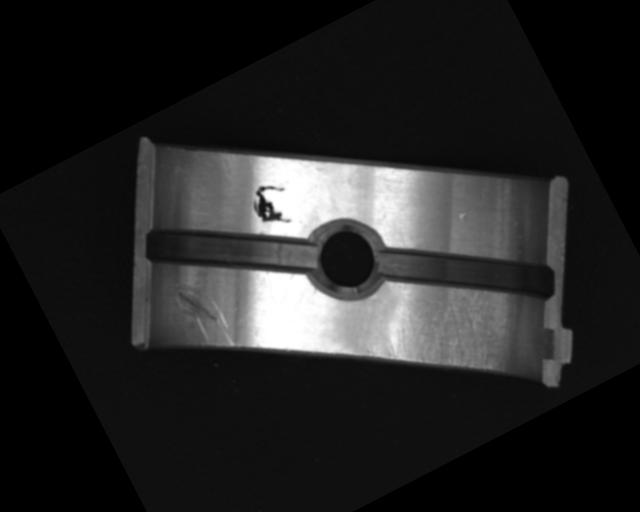blot: (245, 175, 300, 235)
bruise: (456, 209, 470, 223)
gap: (371, 187, 563, 362), (137, 170, 319, 335)
hole: (295, 205, 399, 309)
nick: (166, 270, 239, 363)
scratch: (359, 266, 539, 424)
